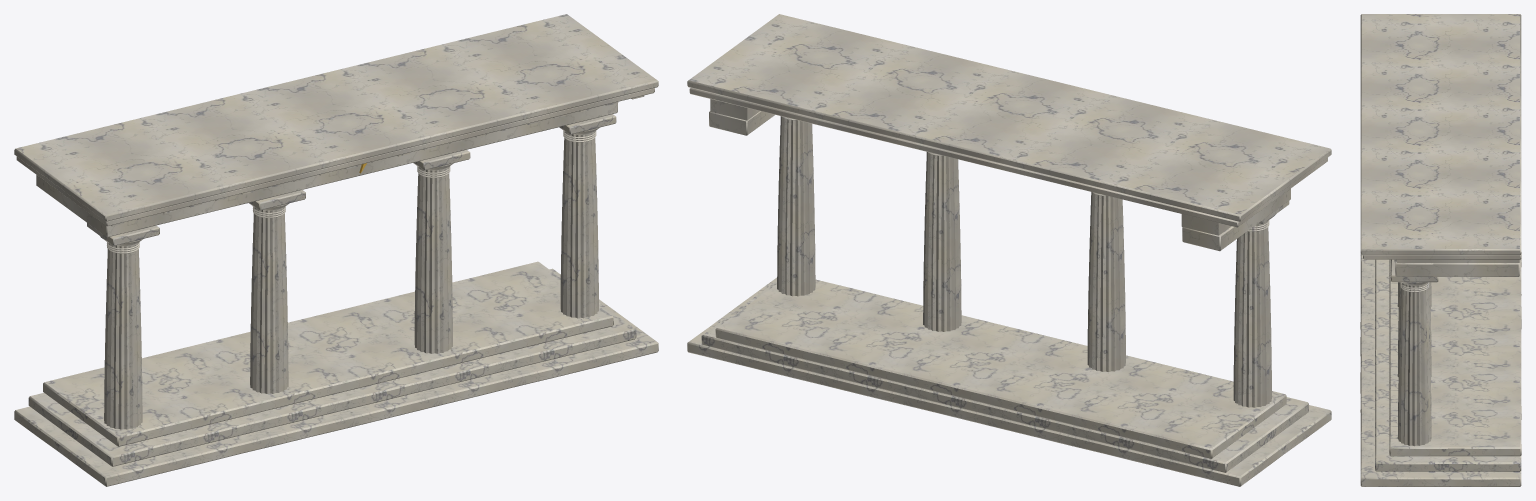
Rendered from home_villa-porch_t2_doric.glb.
3 renders of one model, left to right at view 1: azimuth 30°, elevation 25°; view 2: azimuth 150°, elevation 25°; view 3: azimuth 270°, elevation 25°, orthographic. The views are drawn at different scales.
Visible parts, largest first — view 1: marble, step.003; view 2: marble, step.003; view 3: marble, step.003.
Boxes of the visible parts, left/top/right/bottom form: marble: left=14, top=14, right=658, bottom=429; step.003: left=14, top=261, right=658, bottom=486; marble: left=687, top=14, right=1331, bottom=407; step.003: left=687, top=277, right=1331, bottom=486; marble: left=1360, top=14, right=1521, bottom=446; step.003: left=1360, top=252, right=1521, bottom=486.
Bounding box in the file's own units: 6.6 × 3.1 × 1.9.
Materials: 3 (2 with a texture image).
